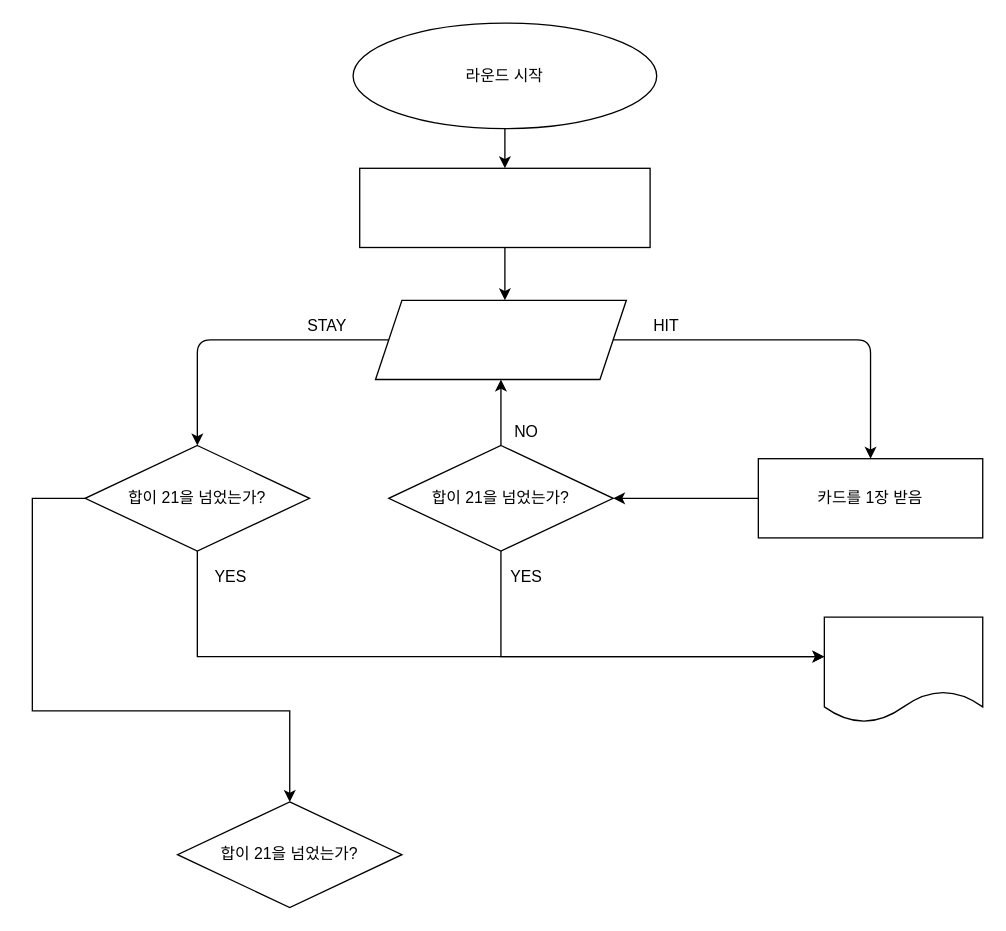
This 1006x931 diagram has some shape labels left out. The box of each missing label's shape, as (x1, y1, x2, y2) in pixels:
서로 2장씩 카드를 받는다: (358, 167, 650, 248)
플레이어 액션 수행: (374, 299, 626, 380)
플레이어 패배: (823, 616, 983, 723)
